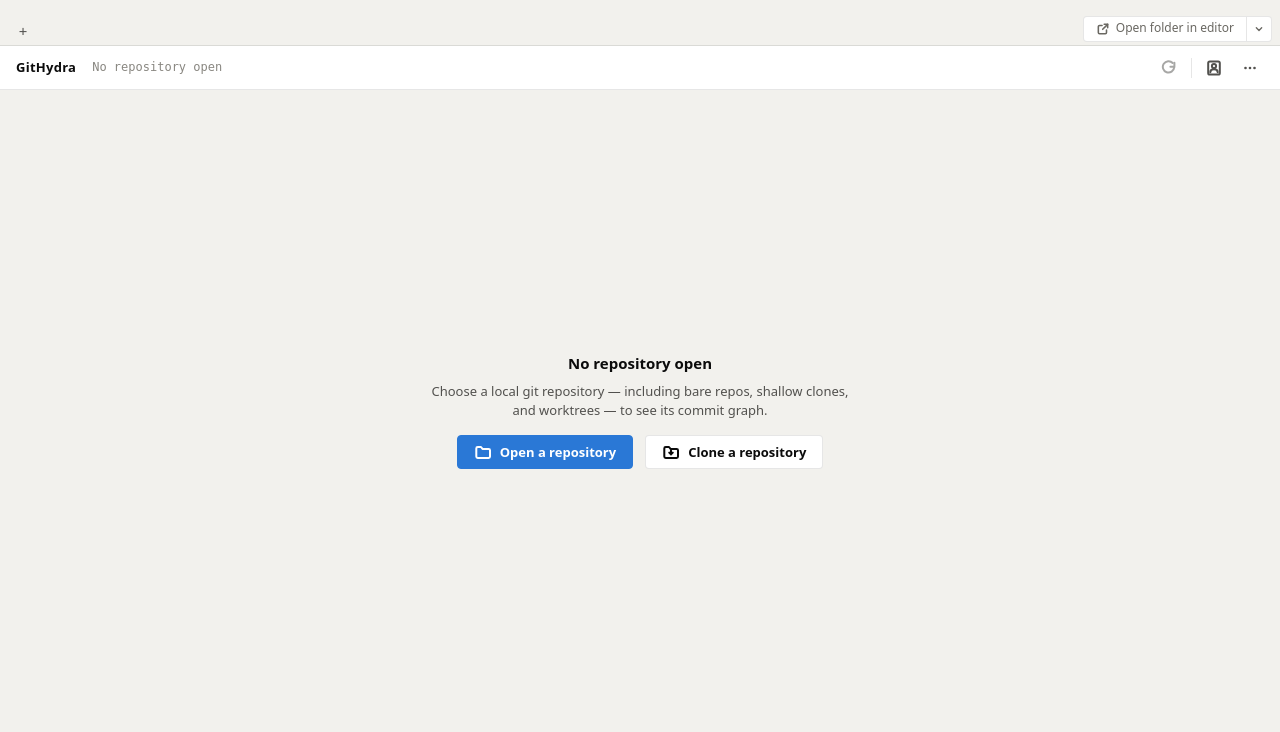
Test case: App › opens a repo via the landing screen and renders its commit graph end to end
Click the button "Open a repository" at (545, 452), box top-left (457, 435), bottom-right (633, 469)
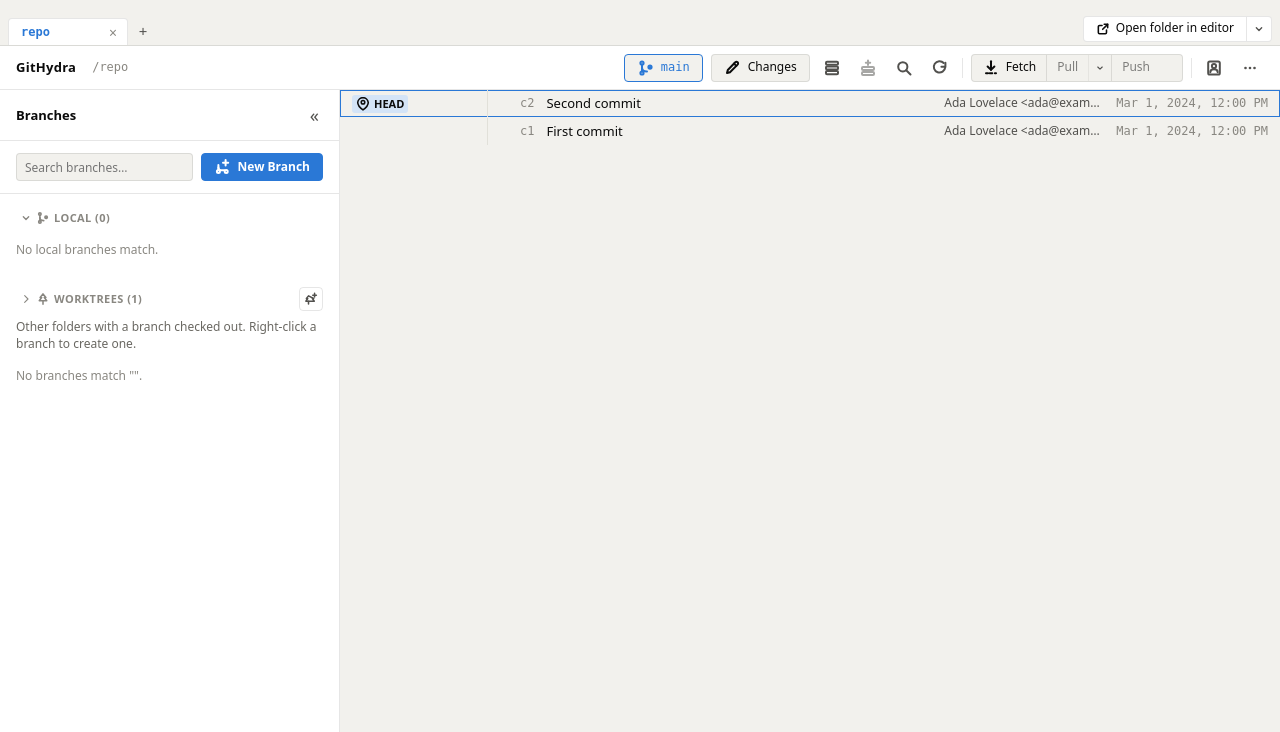
Result: the text "Second commit" is shown at top-left (546, 94), bottom-right (641, 112)
Result: the text "First commit" is shown at top-left (546, 122), bottom-right (623, 140)
Result: the text "/repo" is shown at top-left (92, 60), bottom-right (128, 74)
